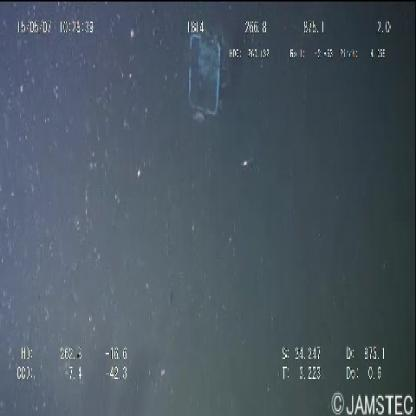Rác: (186, 20, 226, 128)
